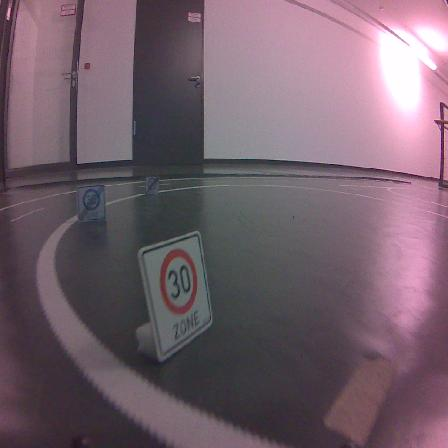30_ZONE_BEGIN: (138, 230, 213, 362)
30_ZONE_END: (77, 185, 106, 222)
